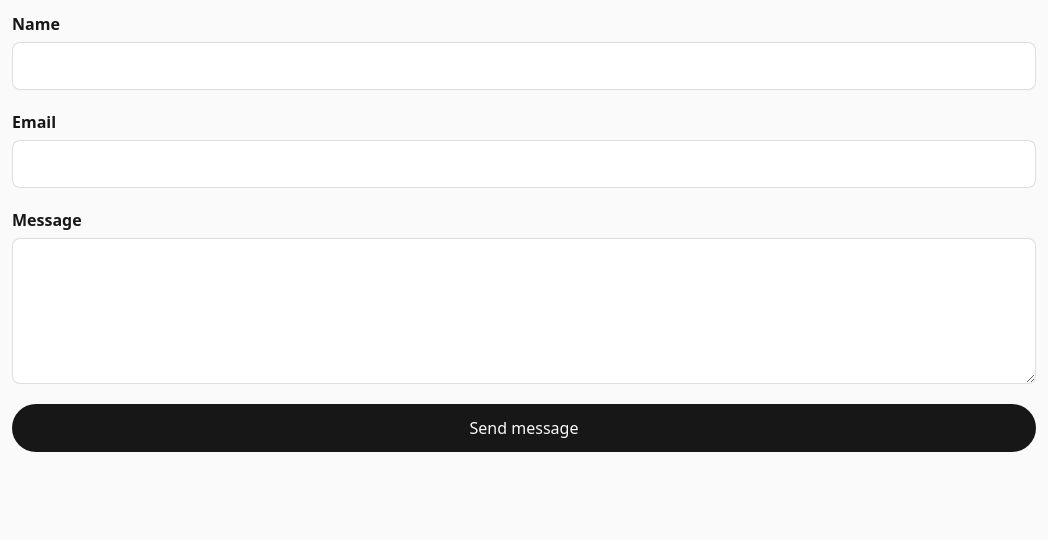
Test: ContactForm › says the message was not sent, and keeps it, when the API fails
The image size is (1048, 540).
Type "Ravit" into the field labelled "Name".
click(524, 66); type("Ravit")  # box [12,42,1036,90]
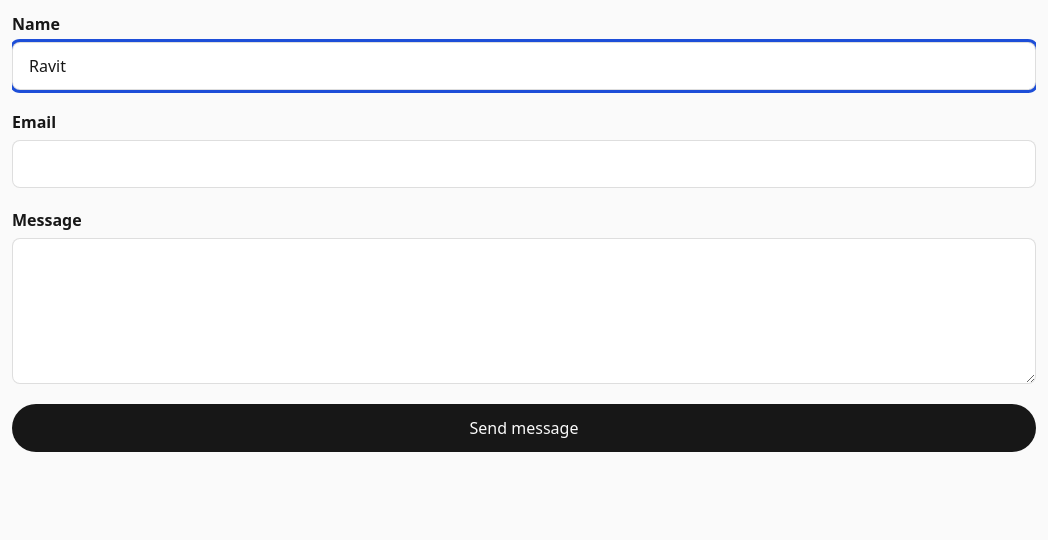
Type "ravit@example.test" into the field labelled "Email".
click(524, 164); type("ravit@example.test")  # box [12,140,1036,188]
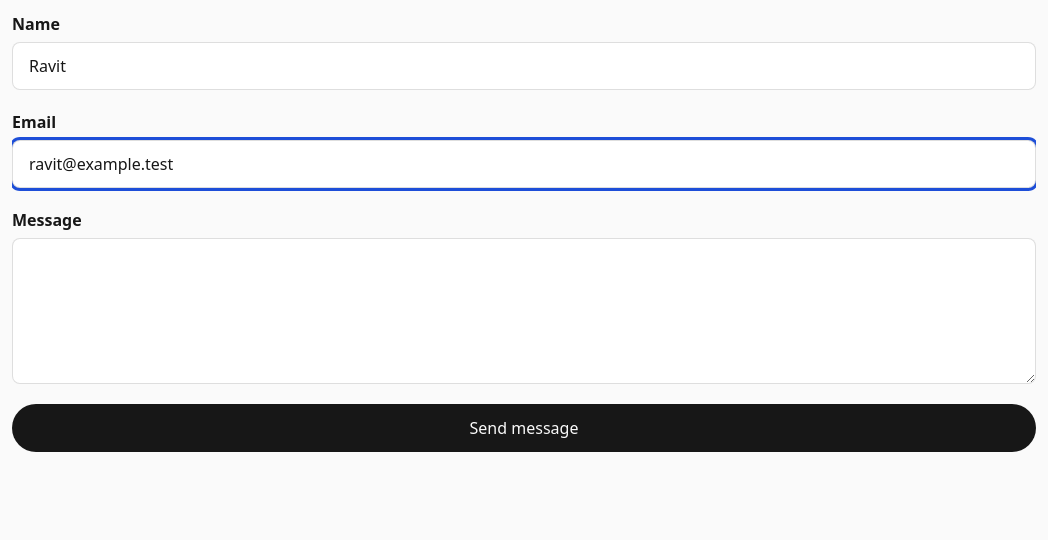
Type "Hello there." into the text box labelled "Message".
click(524, 311); type("Hello there.")  # box [12,238,1036,384]
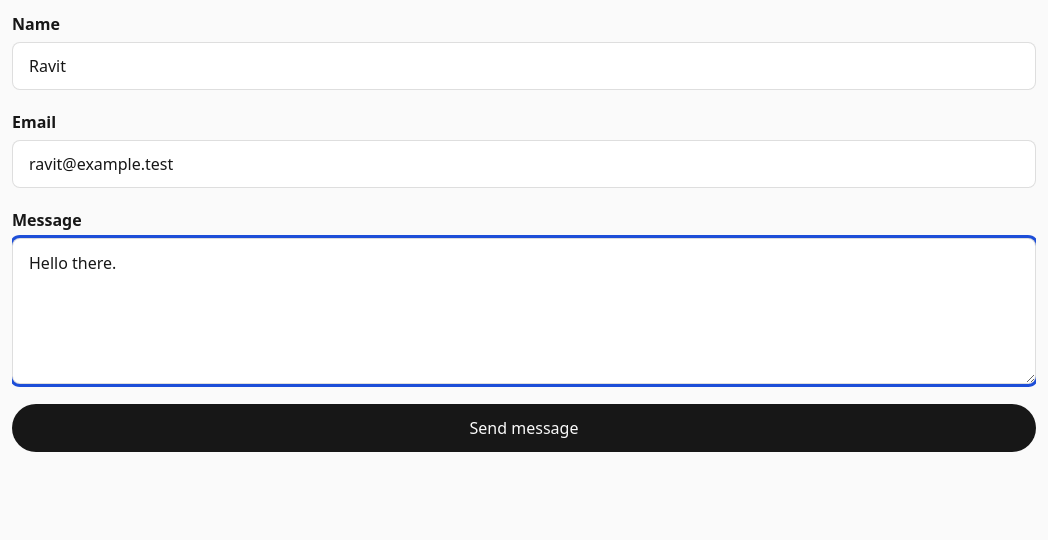
Click the button "Send message".
click(524, 428)  # box [12,404,1036,452]
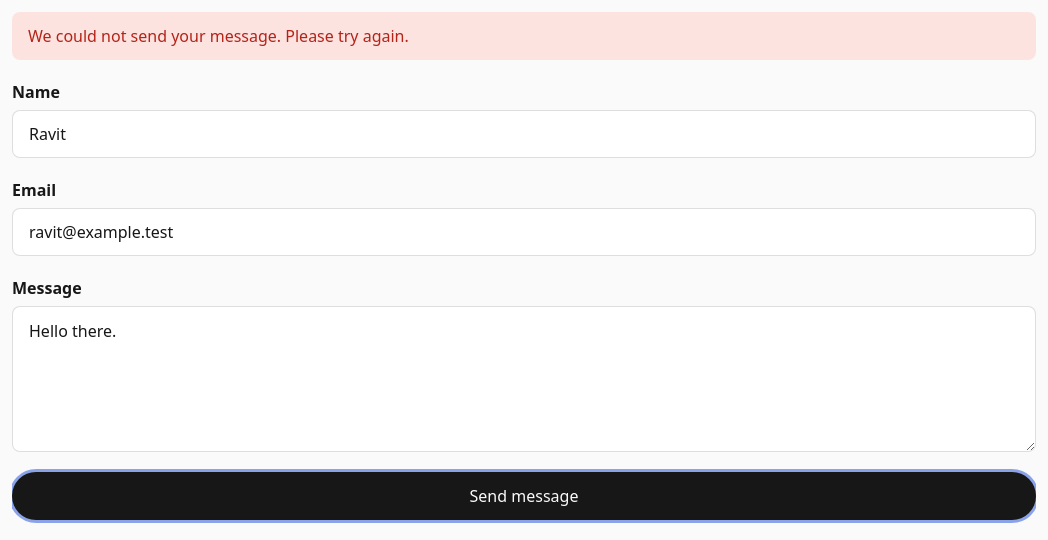
Check: the message shows "could not send", box [28,25,409,47]
